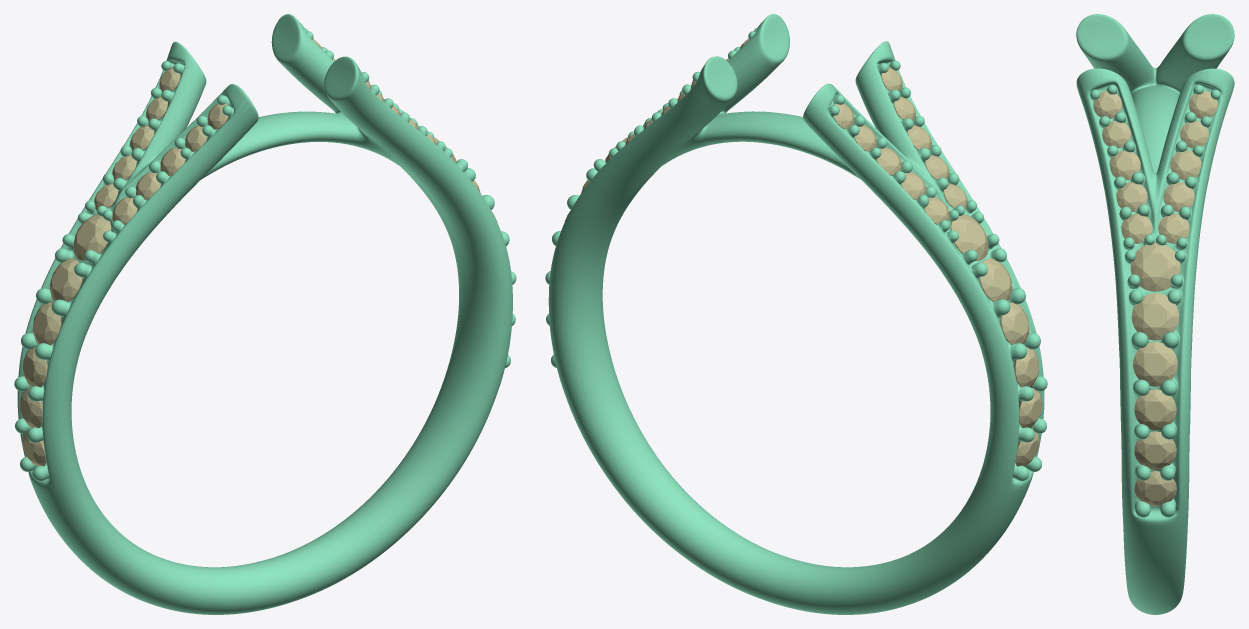
The picture shows the model from 3 angles, left to right: view 1: azimuth 30°, elevation 25°; view 2: azimuth 150°, elevation 25°; view 3: azimuth 270°, elevation 25°; orthographic projection.
Parts seen in each view (by area): view 1: Metal02, Diamond_Gem.005, Diamond_Gem.009, Diamond_Gem.010, Diamond_Gem.007; view 2: Metal02, Diamond_Gem.005, Diamond_Gem.009, Diamond_Gem.010, Diamond_Gem.007; view 3: Metal02, Diamond_Gem.026, Diamond_Gem.022, Diamond_Gem.021, Diamond_Gem.024, Diamond_Gem.025, Diamond_Gem.023, Diamond_Gem.027, Diamond_Gem.020, Diamond_Gem.029, Diamond_Gem.018, Diamond_Gem.019 (+5 smaller).
Part boxes in pixels (x1=…): Metal02: x1=14, y1=14, x2=516, y2=614; Diamond_Gem.005: x1=73, y1=214, x2=111, y2=260; Diamond_Gem.009: x1=49, y1=258, x2=82, y2=302; Diamond_Gem.010: x1=32, y1=302, x2=61, y2=345; Diamond_Gem.007: x1=23, y1=347, x2=47, y2=387; Metal02: x1=545, y1=14, x2=1047, y2=614; Diamond_Gem.005: x1=950, y1=214, x2=988, y2=260; Diamond_Gem.009: x1=979, y1=258, x2=1012, y2=301; Diamond_Gem.010: x1=1000, y1=302, x2=1029, y2=345; Diamond_Gem.007: x1=1014, y1=346, x2=1038, y2=387; Metal02: x1=1076, y1=14, x2=1234, y2=614; Diamond_Gem.026: x1=1130, y1=243, x2=1180, y2=291; Diamond_Gem.022: x1=1131, y1=293, x2=1178, y2=340; Diamond_Gem.021: x1=1133, y1=342, x2=1177, y2=386; Diamond_Gem.024: x1=1134, y1=389, x2=1176, y2=430; Diamond_Gem.025: x1=1134, y1=431, x2=1176, y2=469; Diamond_Gem.023: x1=1134, y1=471, x2=1176, y2=506; Diamond_Gem.027: x1=1170, y1=150, x2=1201, y2=180; Diamond_Gem.020: x1=1109, y1=150, x2=1140, y2=180; Diamond_Gem.029: x1=1158, y1=213, x2=1189, y2=243; Diamond_Gem.018: x1=1121, y1=213, x2=1152, y2=243; Diamond_Gem.019: x1=1116, y1=182, x2=1147, y2=211.
Size of the model in its own units: 21.06 by 22.95 by 6.01.
